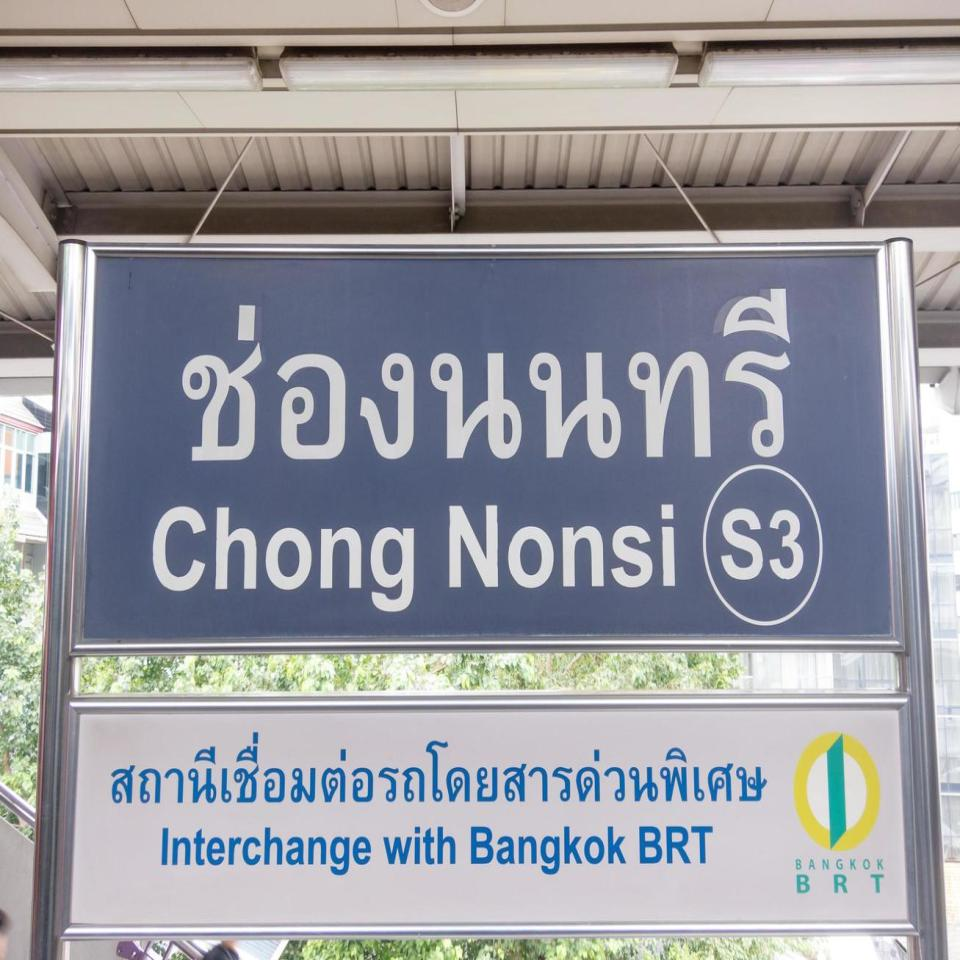signage: (69, 239, 906, 655)
